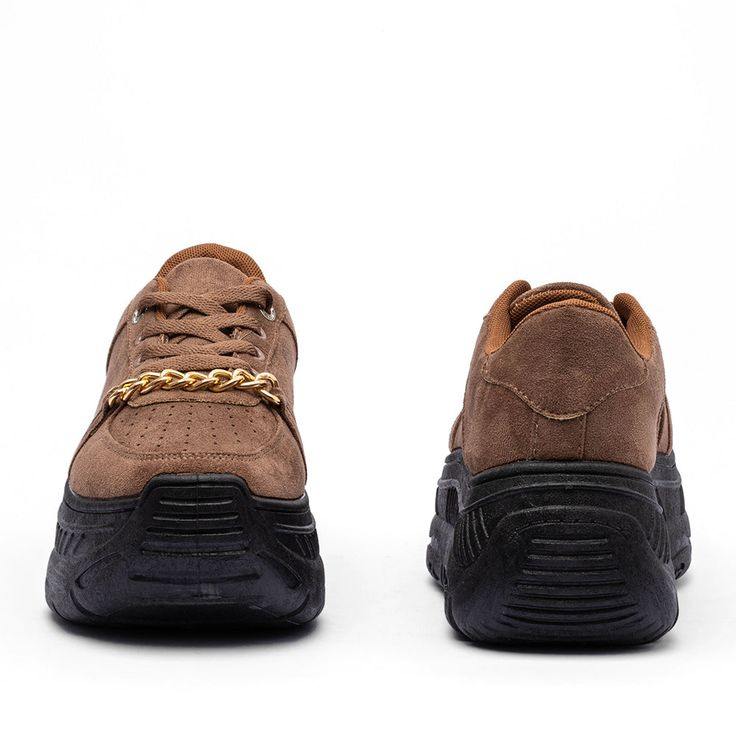gamuza: (71, 258, 673, 500)
